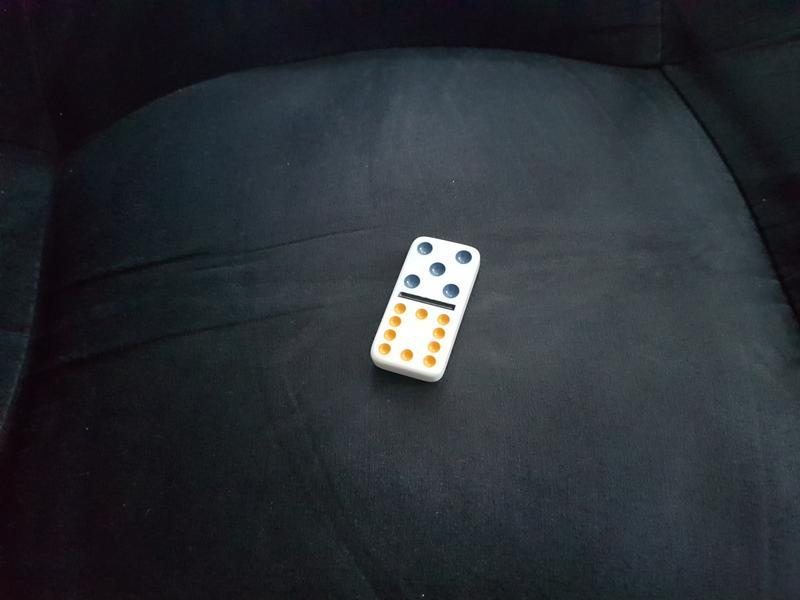Domino: (367, 233, 484, 386)
